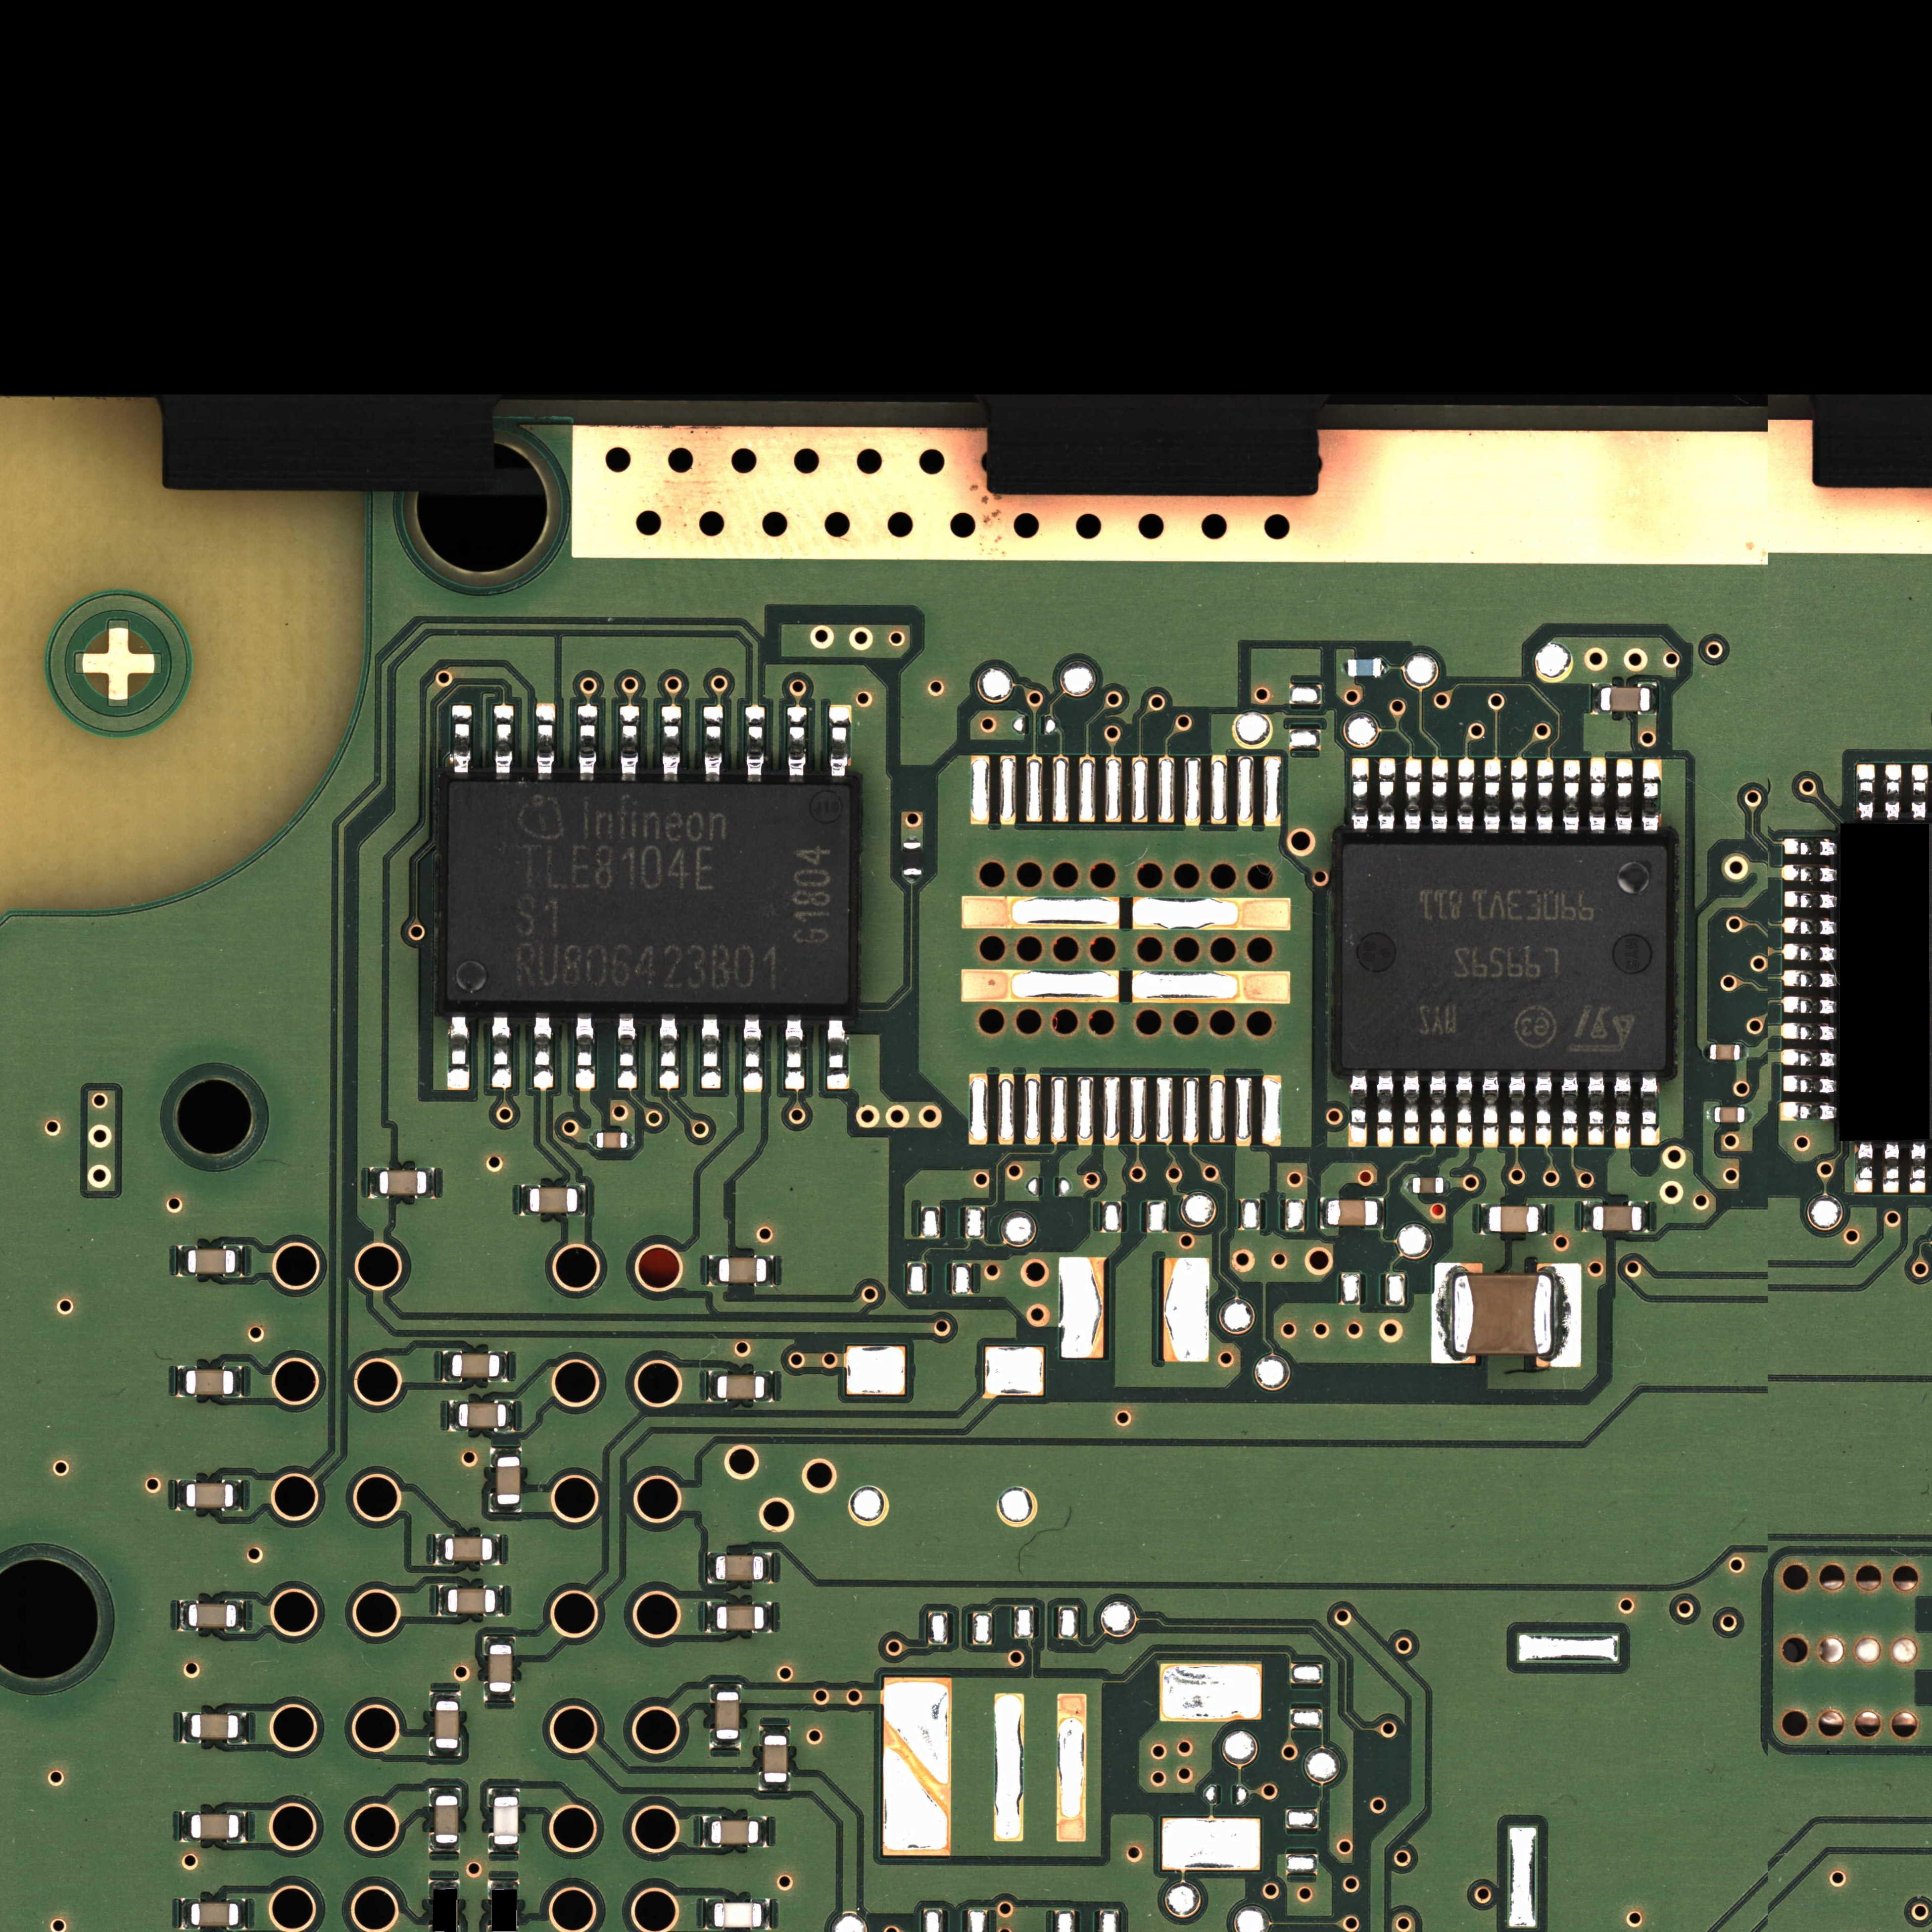Package: (449, 782, 849, 1003), (1341, 844, 1668, 1070), (1454, 1274, 1552, 1353), (1329, 1200, 1376, 1226), (529, 1187, 577, 1214), (1592, 1207, 1642, 1231), (1601, 686, 1649, 711), (451, 1353, 499, 1378), (1490, 1207, 1537, 1231), (448, 1589, 495, 1614), (715, 1555, 763, 1580), (191, 1714, 239, 1739), (717, 1375, 764, 1399), (715, 1902, 763, 1927), (458, 1403, 506, 1428), (186, 1369, 234, 1394), (718, 1258, 766, 1283), (188, 1249, 235, 1274), (186, 1483, 234, 1507), (494, 1798, 518, 1844), (379, 1171, 426, 1194), (711, 1821, 759, 1844), (435, 1700, 458, 1748), (764, 1736, 787, 1783), (191, 1815, 239, 1838), (435, 1796, 458, 1844), (189, 1605, 237, 1628), (717, 1606, 764, 1629), (191, 1904, 239, 1927), (444, 1537, 492, 1560), (497, 1456, 520, 1504), (717, 1693, 740, 1739), (488, 1645, 511, 1691), (902, 842, 922, 876), (1348, 658, 1382, 676), (596, 1132, 628, 1148), (1414, 1177, 1444, 1192), (1711, 1044, 1739, 1060), (1714, 1108, 1744, 1122)
Solder: (1553, 1265, 1582, 1368), (1431, 1263, 1453, 1364), (826, 1017, 849, 1090), (448, 1016, 469, 1092), (577, 704, 598, 780), (702, 706, 724, 782), (701, 1016, 722, 1090), (784, 1016, 805, 1090), (745, 706, 766, 780), (830, 704, 851, 778), (533, 1016, 554, 1090), (658, 1017, 679, 1090), (743, 1014, 763, 1092), (536, 702, 556, 778), (1348, 1072, 1368, 1148), (1640, 1072, 1660, 1148), (451, 704, 472, 773), (617, 1016, 637, 1090), (662, 706, 681, 780), (787, 706, 807, 780), (575, 1016, 594, 1090), (494, 704, 513, 777), (1642, 759, 1661, 832), (492, 1016, 511, 1088), (619, 706, 639, 778), (1376, 1070, 1394, 1150), (1614, 1072, 1631, 1150), (1403, 1070, 1421, 1146), (1352, 757, 1369, 832), (1615, 759, 1633, 833), (1378, 757, 1396, 832), (1562, 759, 1580, 833), (1589, 757, 1606, 832), (1587, 1072, 1605, 1146), (1431, 757, 1449, 832), (1405, 759, 1422, 832), (1430, 1072, 1445, 1148), (1483, 1072, 1499, 1148), (1456, 1072, 1472, 1148), (1562, 1072, 1578, 1148), (1509, 1072, 1525, 1148), (1536, 1072, 1552, 1146), (1511, 759, 1527, 832), (1458, 759, 1474, 832), (1537, 759, 1553, 832), (1484, 759, 1500, 832), (1856, 764, 1875, 819), (1884, 763, 1902, 821), (1780, 1102, 1836, 1120), (1911, 764, 1928, 819), (1783, 865, 1836, 883), (1785, 892, 1838, 909), (1783, 918, 1836, 936), (1782, 970, 1835, 987), (1783, 943, 1836, 961), (1783, 996, 1836, 1014), (1783, 1023, 1836, 1040), (1782, 1049, 1835, 1067), (1783, 1076, 1836, 1093), (1854, 1141, 1872, 1192), (1882, 1143, 1900, 1192), (1909, 1143, 1927, 1192), (1783, 839, 1836, 855), (1479, 1203, 1490, 1235), (428, 1879, 460, 1890), (706, 1601, 717, 1631), (437, 1585, 448, 1615), (708, 1256, 718, 1286), (490, 1504, 522, 1513), (490, 1447, 522, 1456), (1583, 1201, 1592, 1233), (435, 1534, 444, 1566), (428, 1787, 460, 1796), (1592, 683, 1601, 715), (430, 1691, 460, 1700), (485, 1693, 515, 1702), (370, 1168, 379, 1198), (449, 1401, 458, 1431), (485, 1637, 515, 1645), (711, 1739, 741, 1748), (179, 1246, 188, 1276), (711, 1683, 741, 1691), (708, 1371, 717, 1401), (182, 1812, 191, 1842), (495, 1585, 504, 1615), (182, 1713, 191, 1743), (506, 1401, 515, 1431), (182, 1898, 191, 1928), (764, 1371, 773, 1401), (239, 1898, 248, 1928), (488, 1879, 518, 1888), (761, 1727, 789, 1736), (432, 1748, 460, 1757), (702, 1817, 711, 1845), (488, 1845, 520, 1852), (759, 1783, 791, 1790), (488, 1789, 520, 1796), (492, 1534, 499, 1566), (764, 1552, 771, 1583), (444, 1350, 451, 1382), (764, 1601, 771, 1633), (1539, 1203, 1546, 1235), (763, 1898, 770, 1930), (179, 1366, 186, 1398), (430, 1844, 460, 1851), (708, 1553, 715, 1583), (1320, 1198, 1327, 1228), (179, 1481, 186, 1511), (706, 1898, 713, 1928), (180, 1601, 188, 1631), (759, 1817, 766, 1847), (426, 1168, 433, 1198), (522, 1185, 529, 1215), (579, 1185, 586, 1215), (501, 1352, 508, 1382), (234, 1366, 241, 1396), (1642, 1203, 1649, 1233), (1651, 683, 1658, 713), (239, 1713, 246, 1743), (766, 1256, 773, 1286), (239, 1812, 246, 1842), (234, 1481, 241, 1509), (1378, 1198, 1384, 1228), (237, 1601, 242, 1631), (235, 1246, 241, 1276), (1744, 1106, 1753, 1123), (902, 876, 922, 883), (902, 835, 922, 842), (589, 1132, 596, 1148), (1444, 1178, 1451, 1194), (1707, 1108, 1714, 1123), (1341, 660, 1348, 676), (628, 1132, 633, 1150), (1382, 658, 1387, 676), (1741, 1044, 1746, 1060), (1704, 1044, 1709, 1060), (1407, 1178, 1412, 1192)
